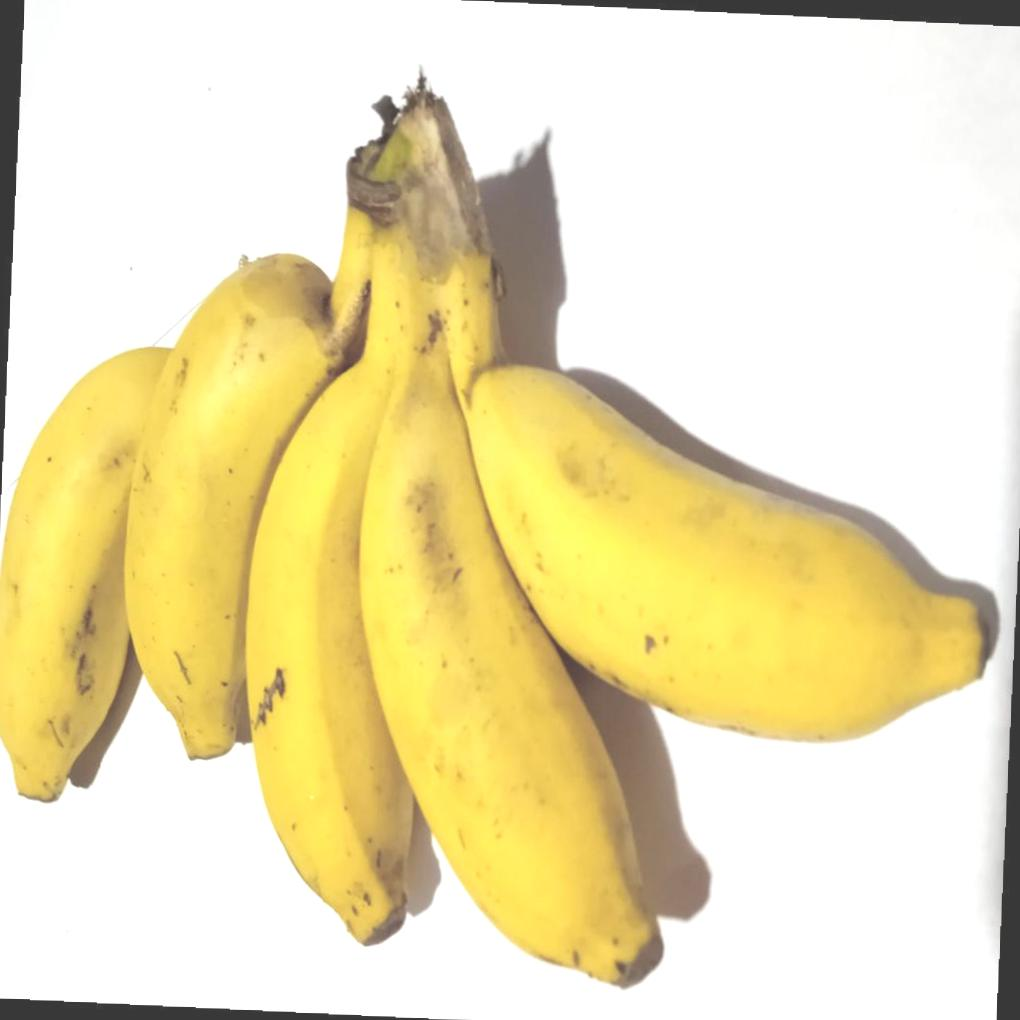Banana Ripe: (16, 203, 676, 996), (377, 176, 1009, 805), (139, 202, 432, 964), (0, 314, 205, 842)
